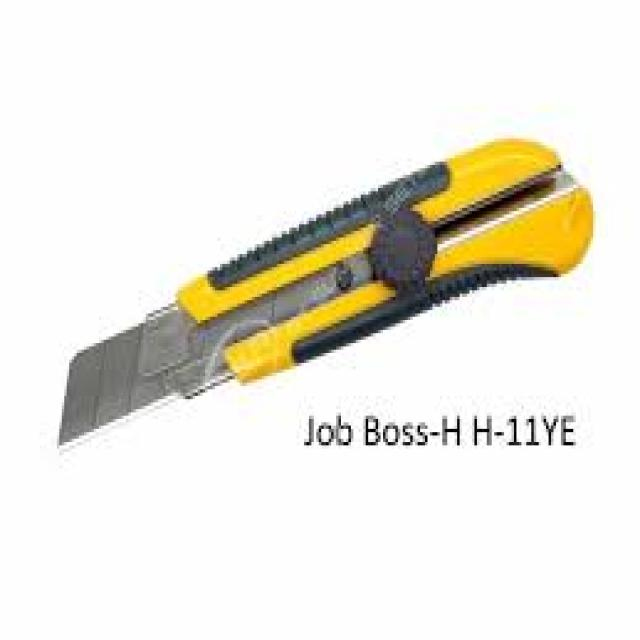Knife: (62, 139, 591, 449)
